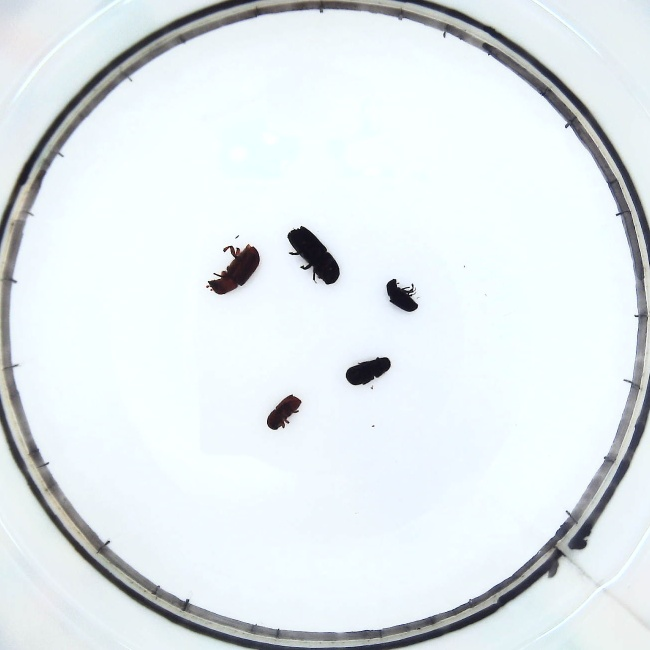armandi: (342, 354, 393, 386)
boerner: (285, 223, 341, 288)
coleoptera: (385, 275, 421, 315)
leconte: (203, 242, 264, 297)
linnaeus: (267, 393, 302, 434)
